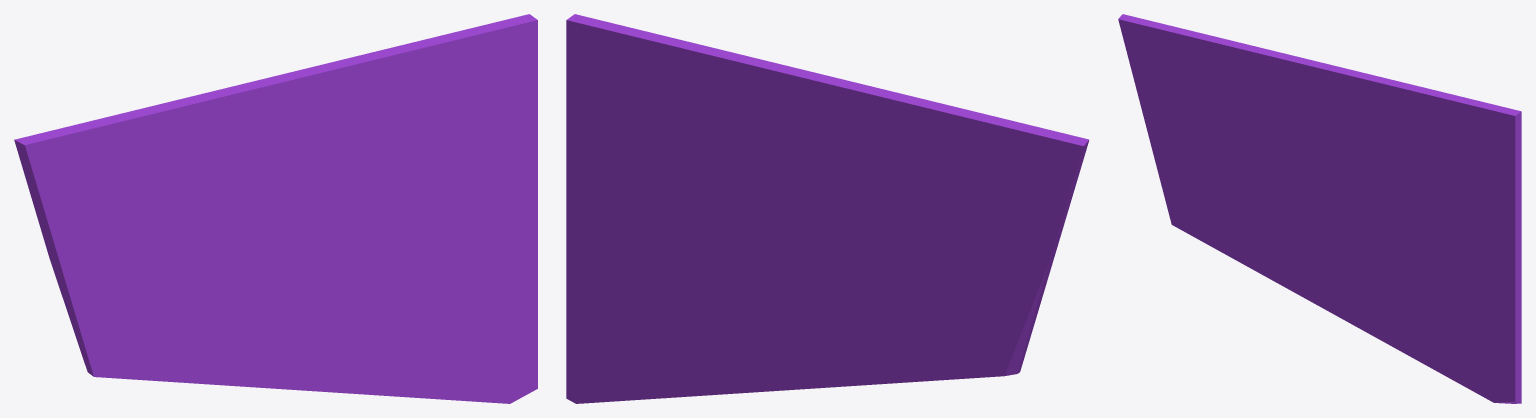
File: Window_7_8_chunks.fbx
The picture shows the model from 3 angles, left to right: view 1: azimuth 30°, elevation 25°; view 2: azimuth 150°, elevation 25°; view 3: azimuth 330°, elevation 25°; orthographic projection. The views are drawn at different scales.
Visible parts, largest first — view 1: Window_7_8_3, Window_7_8_1, Window_7_8_9, Window_7_8_4, Window_7_8_7, Window_7_8_6, Window_7_8_2, Window_7_8_16, Window_7_8_8, Window_7_8_10, Window_7_8_17, Window_7_8_18 (+3 smaller); view 2: Window_7_8_1, Window_7_8_9, Window_7_8_3, Window_7_8_7, Window_7_8_6, Window_7_8_2, Window_7_8_4, Window_7_8_13, Window_7_8_14, Window_7_8_12, Window_7_8_5, Window_7_8_8 (+4 smaller); view 3: Window_7_8_3, Window_7_8_1, Window_7_8_9, Window_7_8_4, Window_7_8_7, Window_7_8_6, Window_7_8_2, Window_7_8_16, Window_7_8_8, Window_7_8_10, Window_7_8_17, Window_7_8_18 (+3 smaller).
Boxes of the visible parts, x1,y1,x2,y2 form: Window_7_8_3: (397, 123, 537, 332); Window_7_8_1: (365, 14, 537, 206); Window_7_8_9: (14, 124, 162, 323); Window_7_8_4: (325, 312, 537, 403); Window_7_8_7: (169, 254, 297, 388); Window_7_8_6: (276, 214, 406, 391); Window_7_8_2: (179, 159, 397, 257); Window_7_8_16: (92, 83, 275, 185); Window_7_8_8: (71, 273, 178, 381); Window_7_8_10: (126, 151, 272, 282); Window_7_8_17: (260, 79, 398, 175); Window_7_8_18: (257, 47, 409, 112); Window_7_8_1: (566, 14, 739, 213); Window_7_8_9: (929, 123, 1089, 332); Window_7_8_3: (566, 127, 701, 295); Window_7_8_7: (808, 250, 951, 387); Window_7_8_6: (694, 212, 829, 390); Window_7_8_2: (704, 161, 922, 279); Window_7_8_4: (566, 320, 774, 403); Window_7_8_13: (876, 98, 1020, 198); Window_7_8_14: (708, 58, 903, 141); Window_7_8_12: (723, 110, 891, 192); Window_7_8_5: (566, 283, 700, 343); Window_7_8_8: (943, 297, 1038, 379); Window_7_8_3: (1406, 194, 1521, 358); Window_7_8_1: (1381, 85, 1521, 208); Window_7_8_9: (1118, 14, 1224, 169); Window_7_8_4: (1351, 293, 1521, 403); Window_7_8_7: (1230, 184, 1328, 302); Window_7_8_6: (1313, 213, 1413, 323); Window_7_8_2: (1238, 111, 1406, 207); Window_7_8_16: (1171, 31, 1312, 130); Window_7_8_8: (1157, 168, 1237, 256); Window_7_8_10: (1196, 62, 1309, 197); Window_7_8_17: (1300, 95, 1406, 157); Window_7_8_18: (1302, 61, 1416, 108).
Bounding box in the file's own units: 977 × 689 × 27.2.
